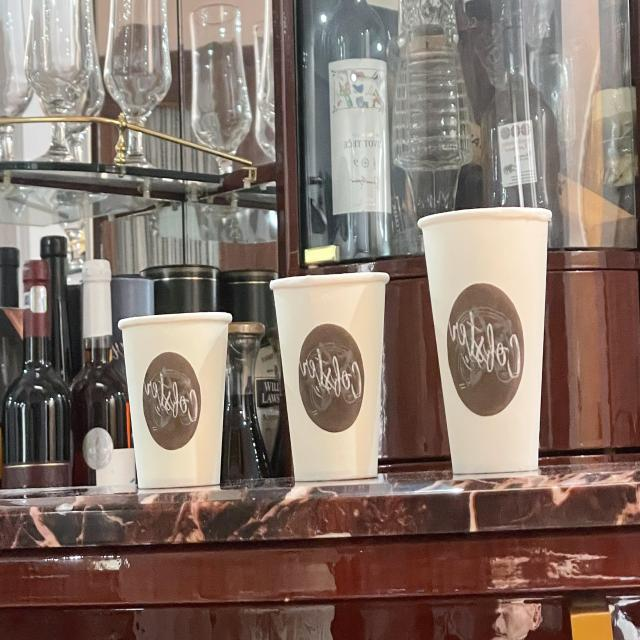big: (416, 199, 557, 476)
medium: (270, 267, 394, 487)
small: (116, 303, 236, 498)
